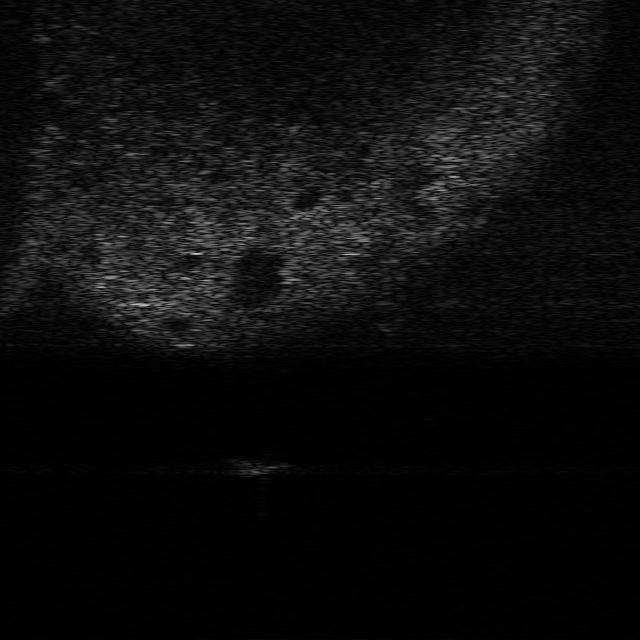ball: (364, 300, 401, 328)
cube: (228, 455, 294, 480)
